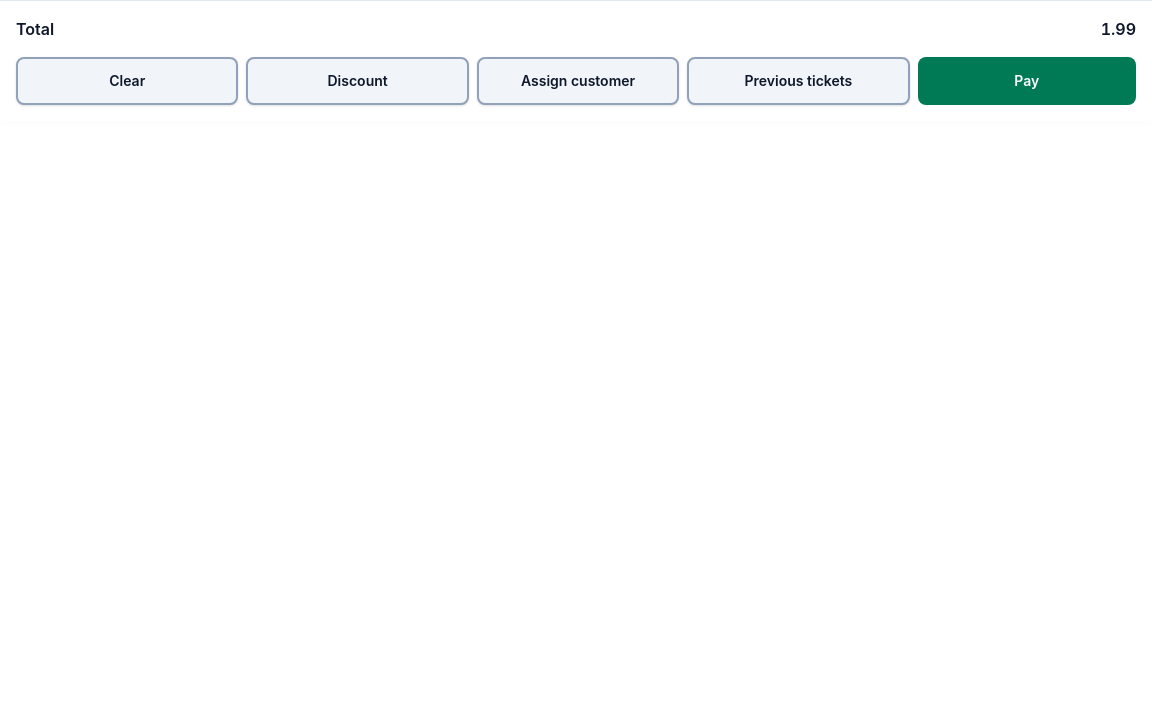
it: CheckoutFooter › applies global discount from the Discount button modal
Click the button with test id "open-global-discount" at [358, 81], box [246,57,469,105]
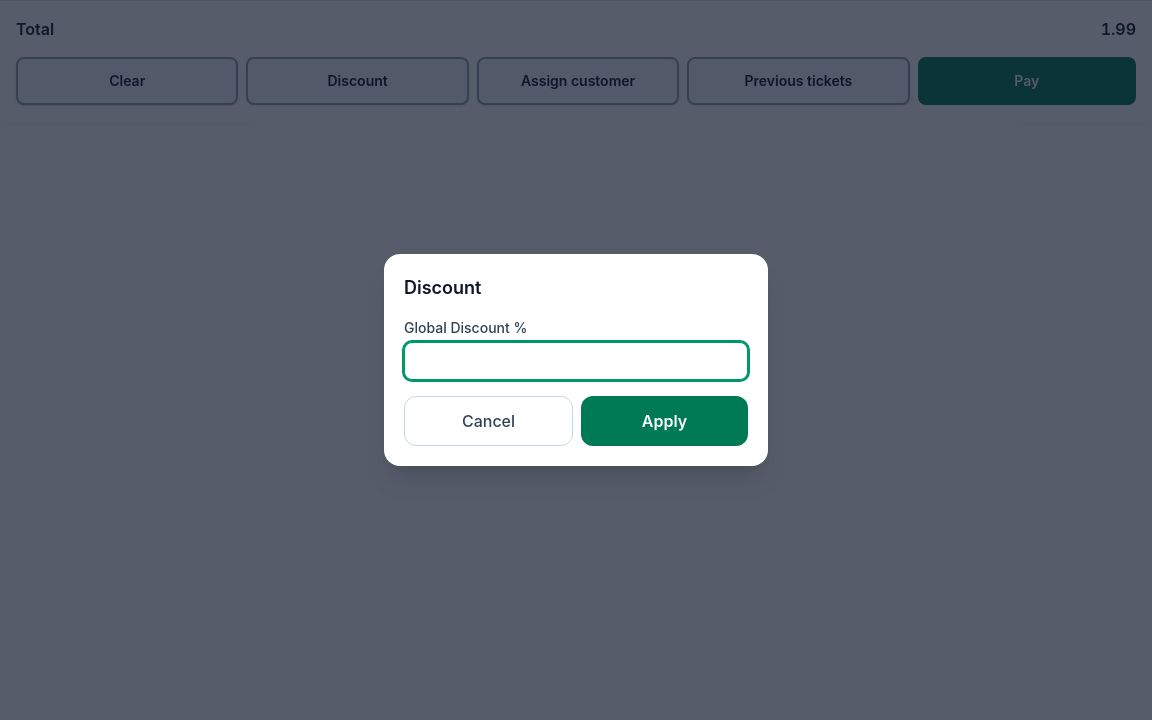
Expected: the dialog with test id "global-discount-modal" is shown
Type "10" into the field labelled "Global Discount %" at [576, 361], box [404,342,748,380]
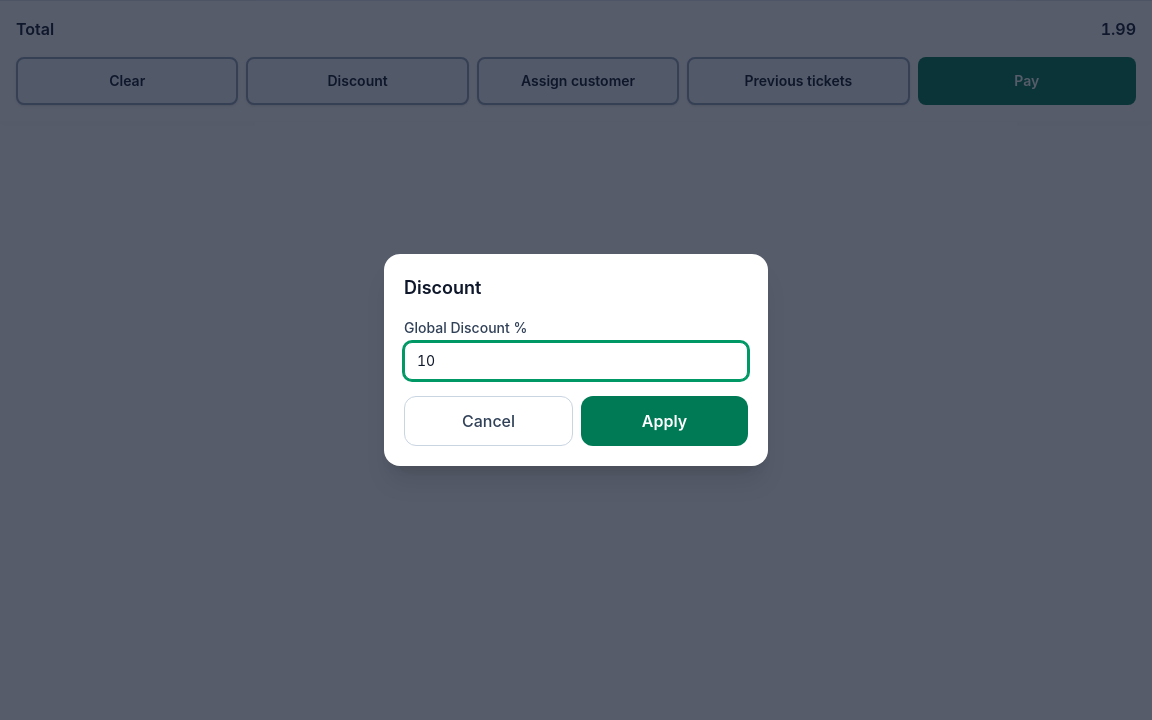
Click the button with test id "apply-global-discount" at [664, 421], box [581,396,748,446]
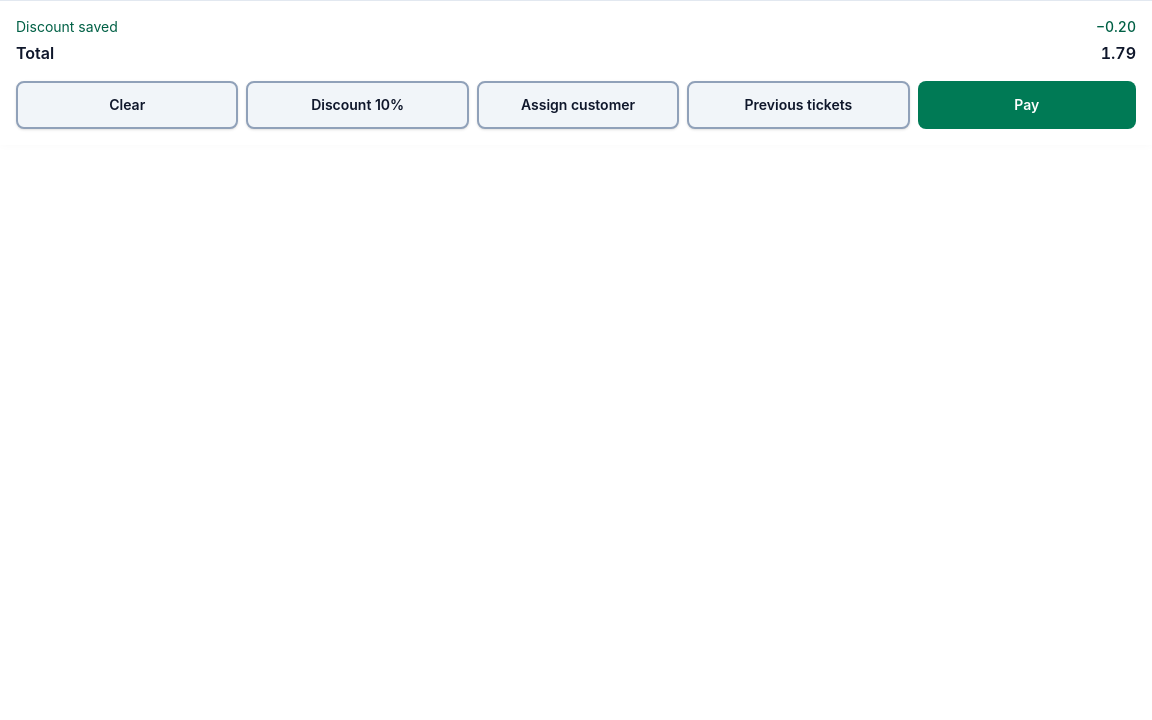
Expected: the dialog with test id "global-discount-modal" is gone
Expected: the text with test id "discount-saved" reads "−0.20", [1096,17,1136,37]
Expected: the text with test id "footer-total" reads "1.79", [1101,43,1136,63]
